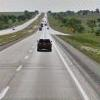Car: (34, 32, 56, 56)
